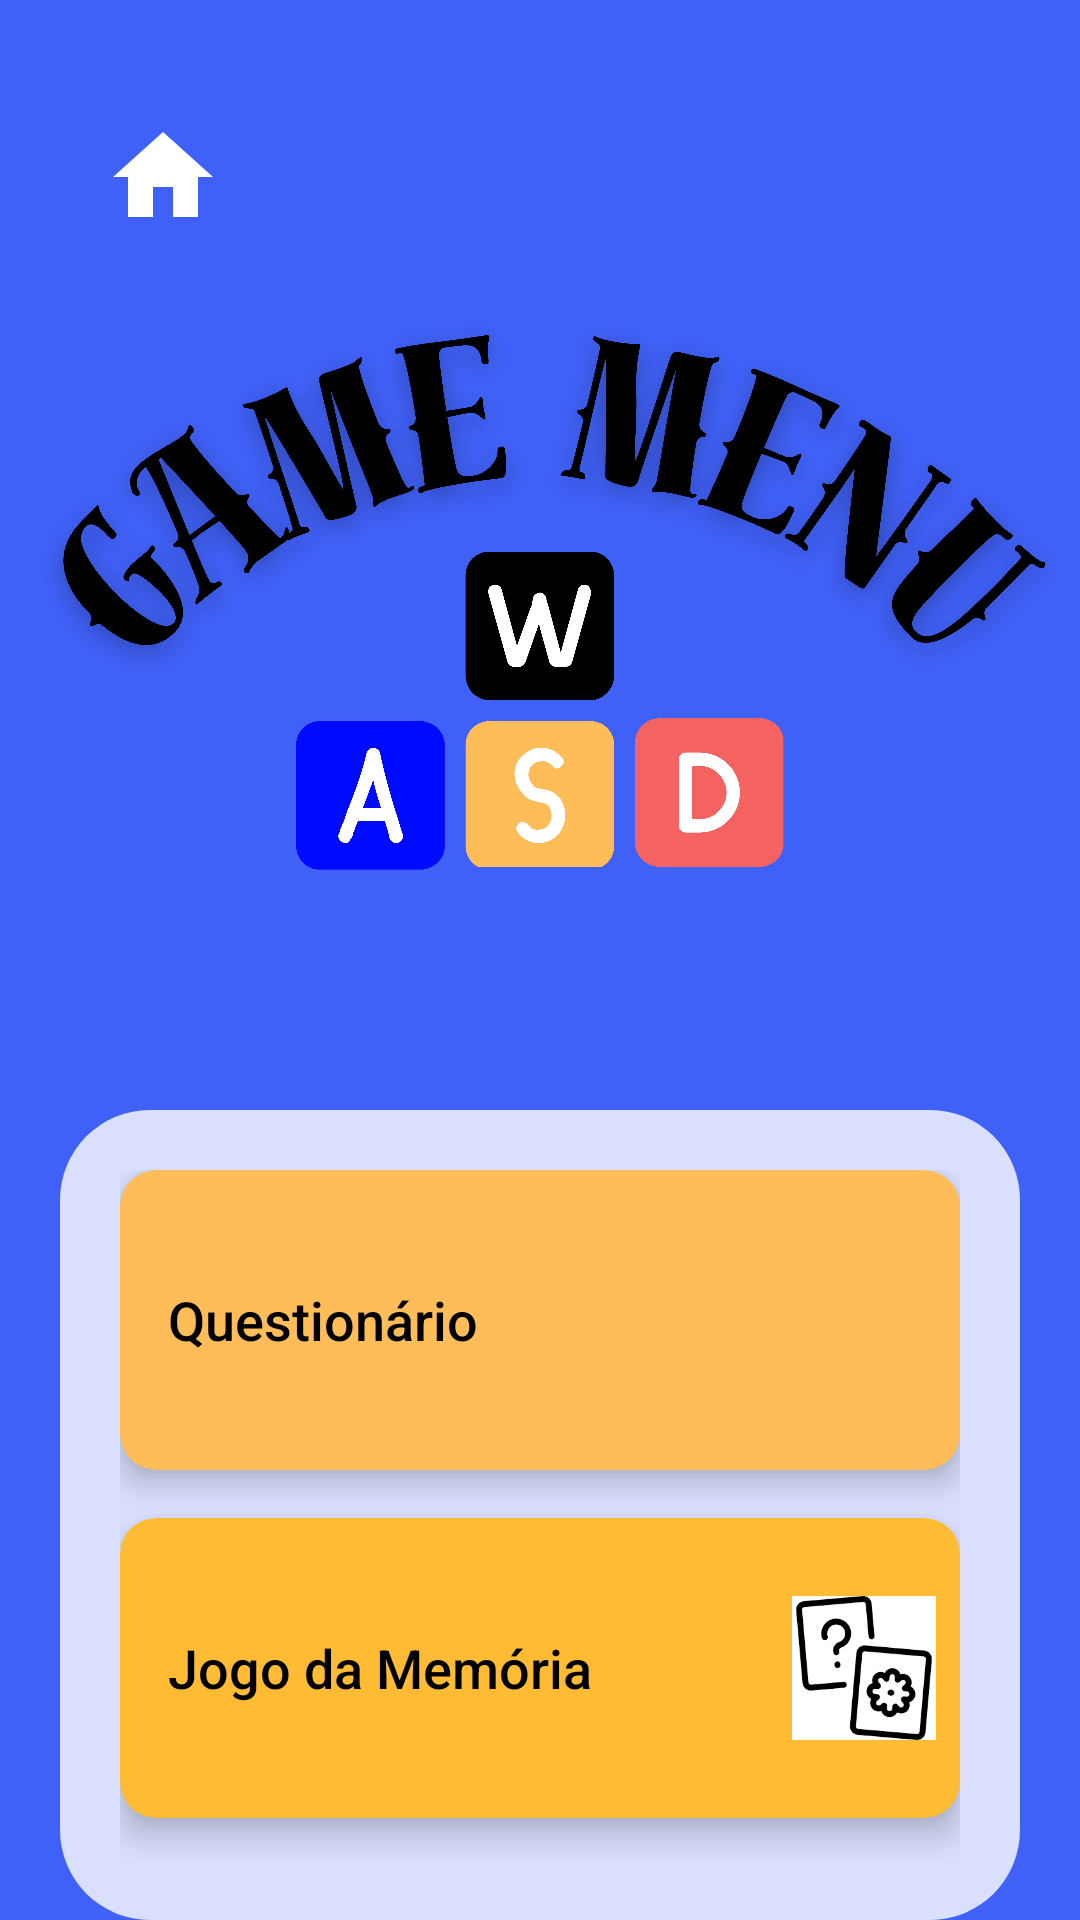

Where icons sit on this 1080×1920 app screen, as [x1,y1,x2,y2]:
homeblack: [113,132,213,217]
memory: [792,1596,936,1740]
